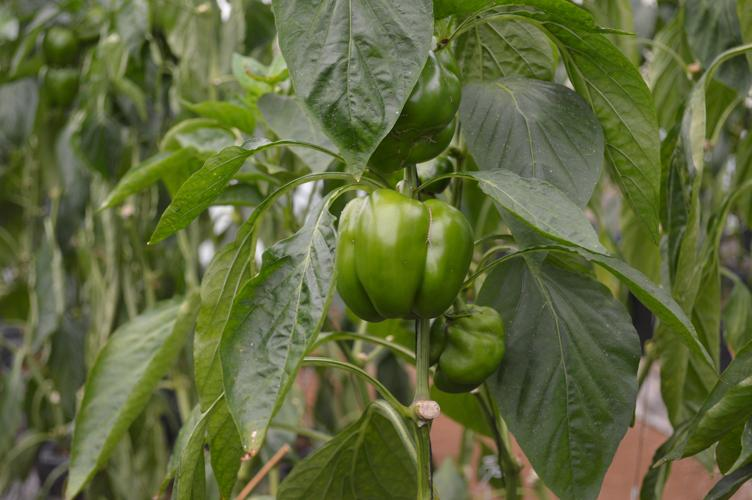BellPepper: (328, 199, 470, 341), (342, 45, 457, 160), (434, 305, 517, 388)
